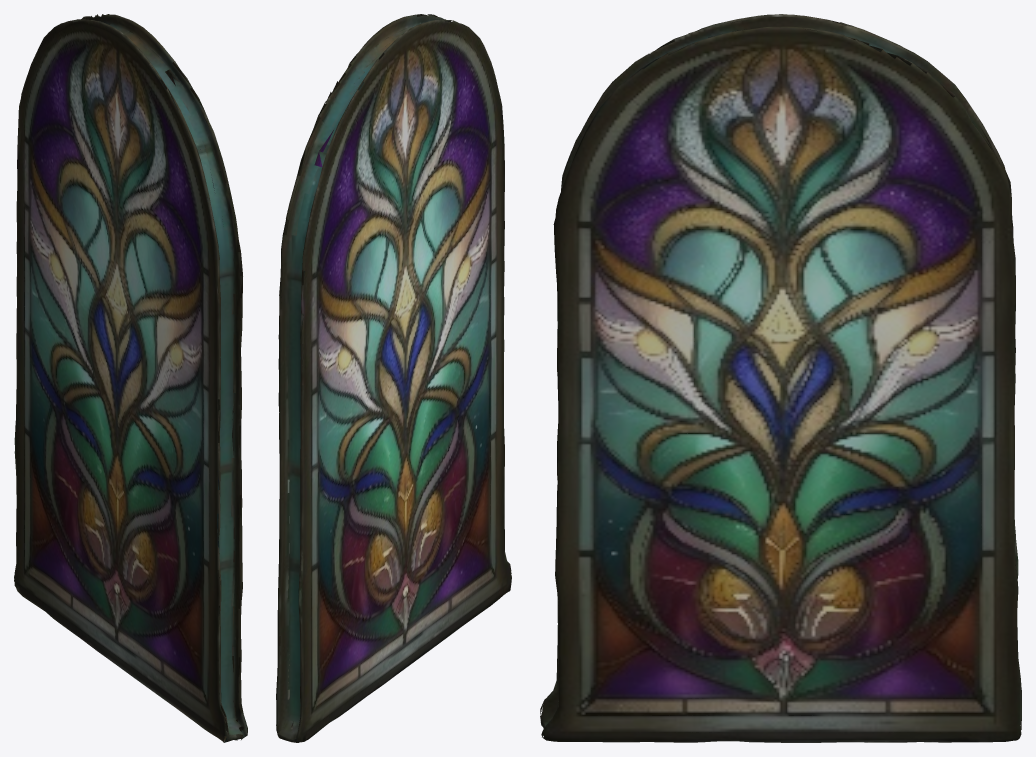
The model's file is stained-glass.glb.
3 views of the same model, side by side, from view 1: azimuth 30°, elevation 25°; view 2: azimuth 150°, elevation 25°; view 3: azimuth 270°, elevation 25° (orthographic). The views are drawn at different scales.
Visible parts, largest first — view 1: tripo_node_922ecfde-0ad5-430a-9208-f4c23bb273b5; view 2: tripo_node_922ecfde-0ad5-430a-9208-f4c23bb273b5; view 3: tripo_node_922ecfde-0ad5-430a-9208-f4c23bb273b5.
Part boxes in pixels (x1,y1,x2,y2): tripo_node_922ecfde-0ad5-430a-9208-f4c23bb273b5: [14, 14, 247, 742]; tripo_node_922ecfde-0ad5-430a-9208-f4c23bb273b5: [276, 14, 511, 742]; tripo_node_922ecfde-0ad5-430a-9208-f4c23bb273b5: [540, 14, 1021, 742].
Bounding box in the file's own units: 0.046 × 0.9983 × 0.6081.
Materials: 1 (1 with a texture image).
